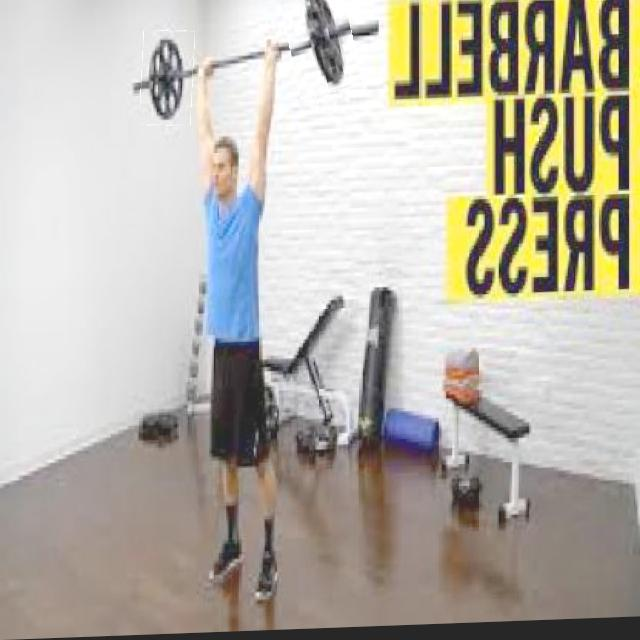barbell: (286, 1, 359, 100), (142, 32, 195, 128)
